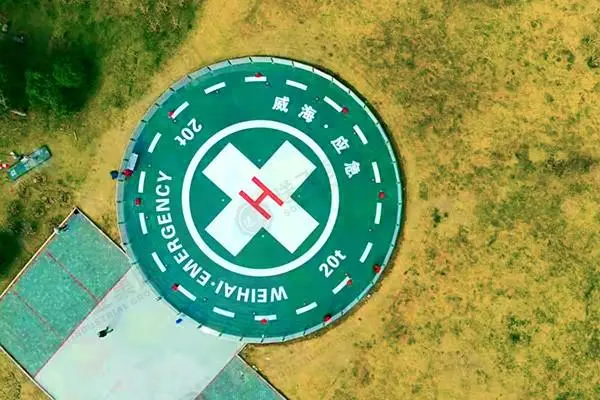Apron: (180, 119, 339, 279)
